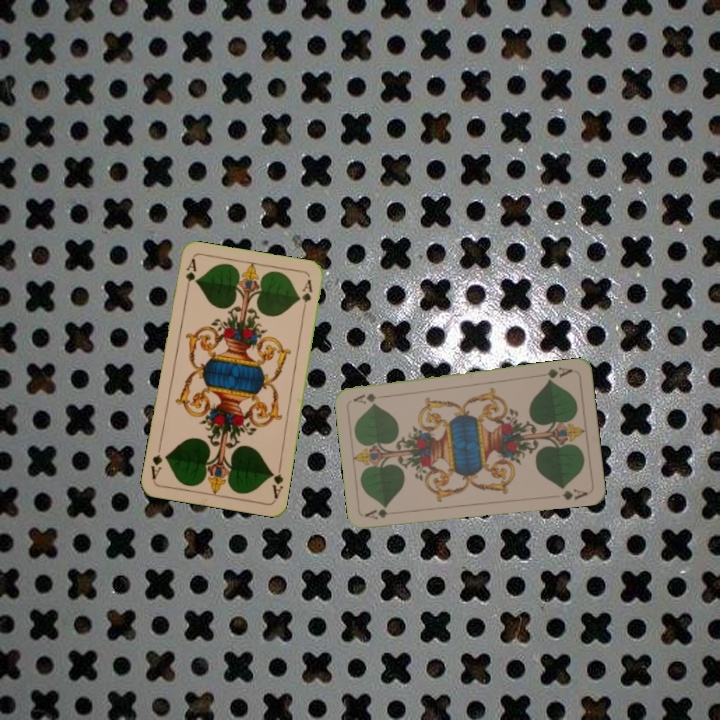GA: (535, 363, 575, 384), (267, 461, 286, 501), (362, 505, 402, 522), (182, 255, 199, 295)
